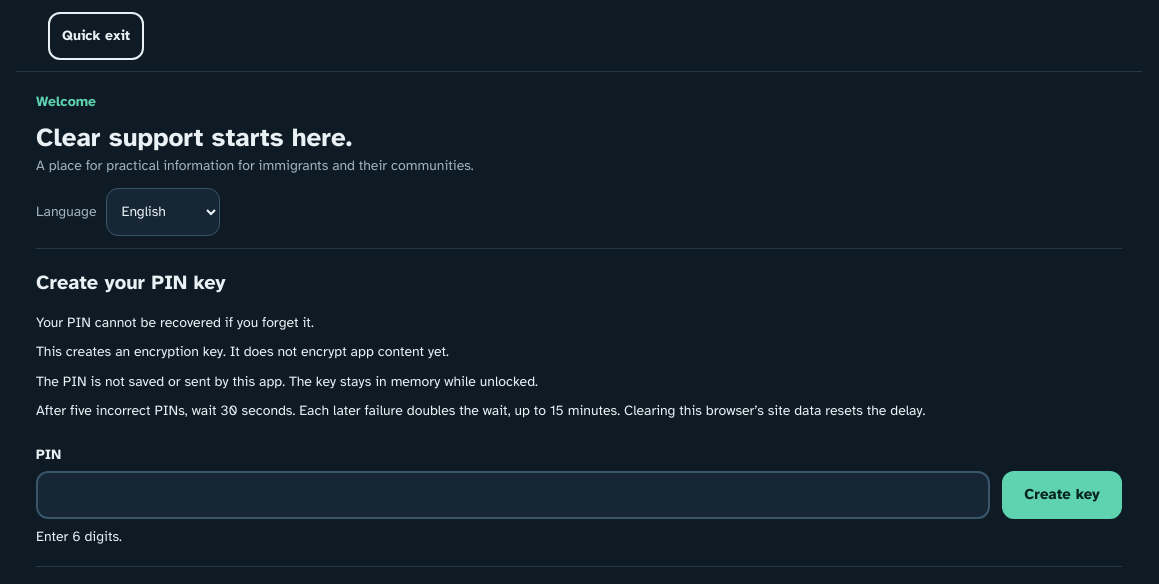
Scenario: App › switches all visible copy to Spanish
Select "Spanish" in the dropdown labelled "Language" at [164, 212], box [106, 188, 220, 236]
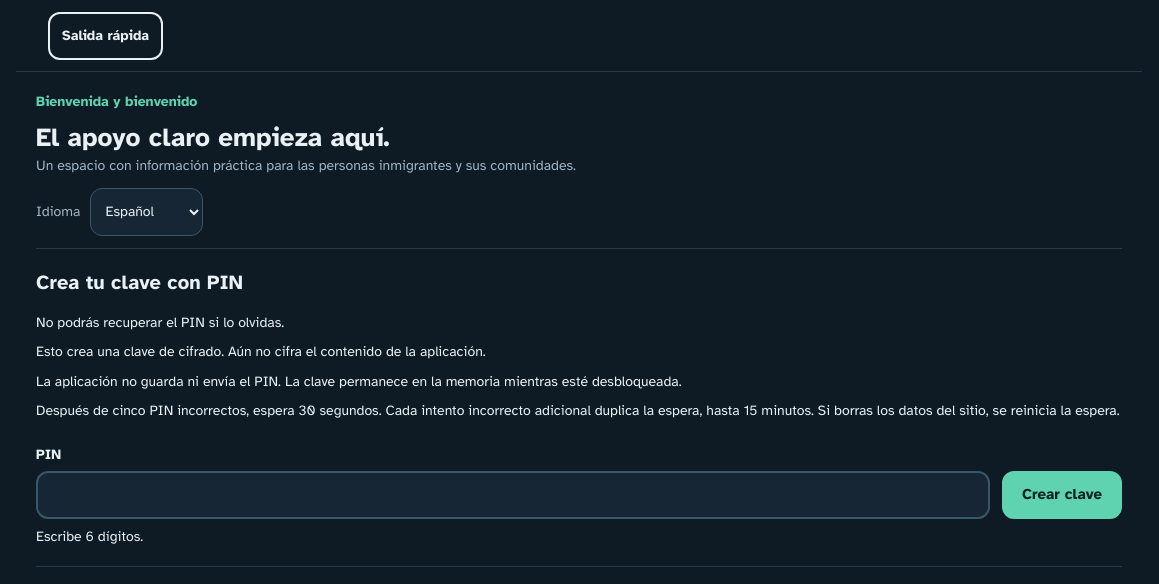
Expected: the heading "El apoyo claro empieza aquí." is shown, [36, 121, 390, 154]
